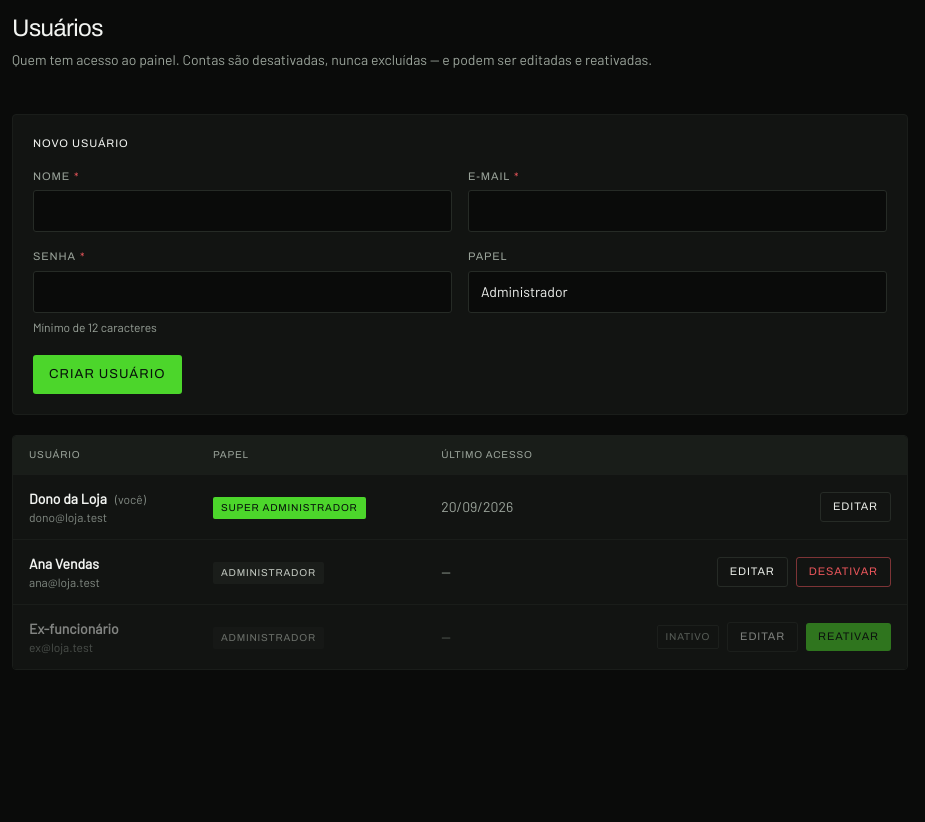
usuários › editar envia só o que mudou; senha em branco mantém a atual
Expected: the text "Ana Vendas" is shown, [29, 555, 99, 572]
Click the button "Editar" in the row of "Ana Vendas" at {"x": 752, "y": 572}, box [717, 557, 788, 587]
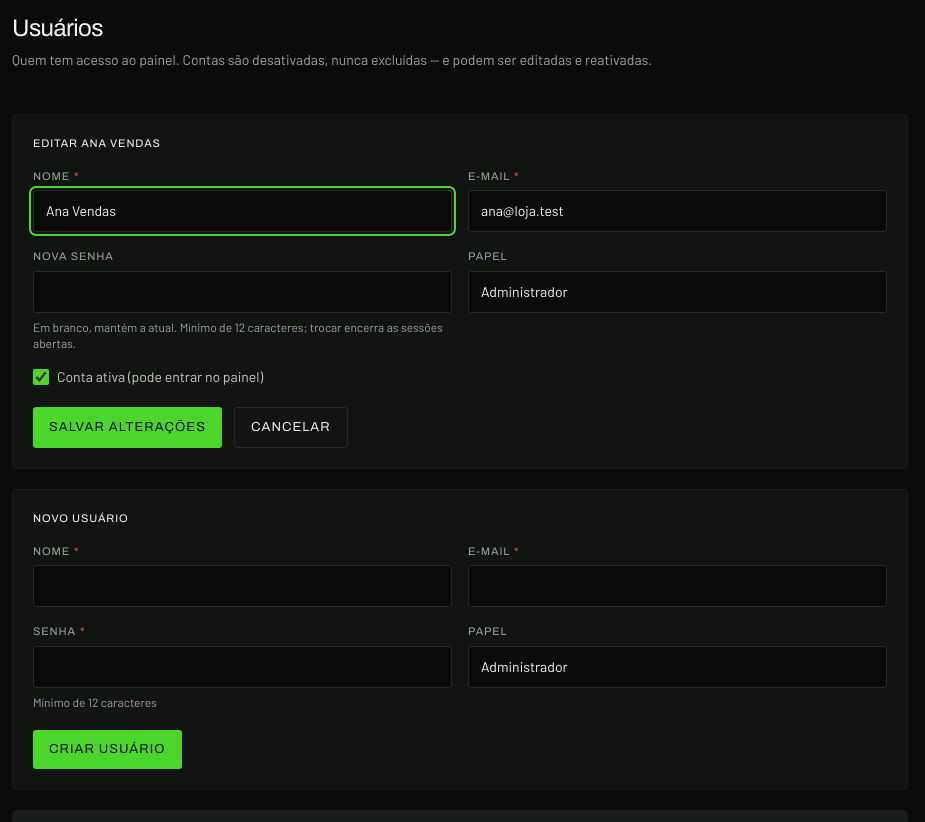
Replace the text in the 1st field labelled "Nome*" with "Ana Souza" at {"x": 242, "y": 211}, box [33, 190, 452, 232]
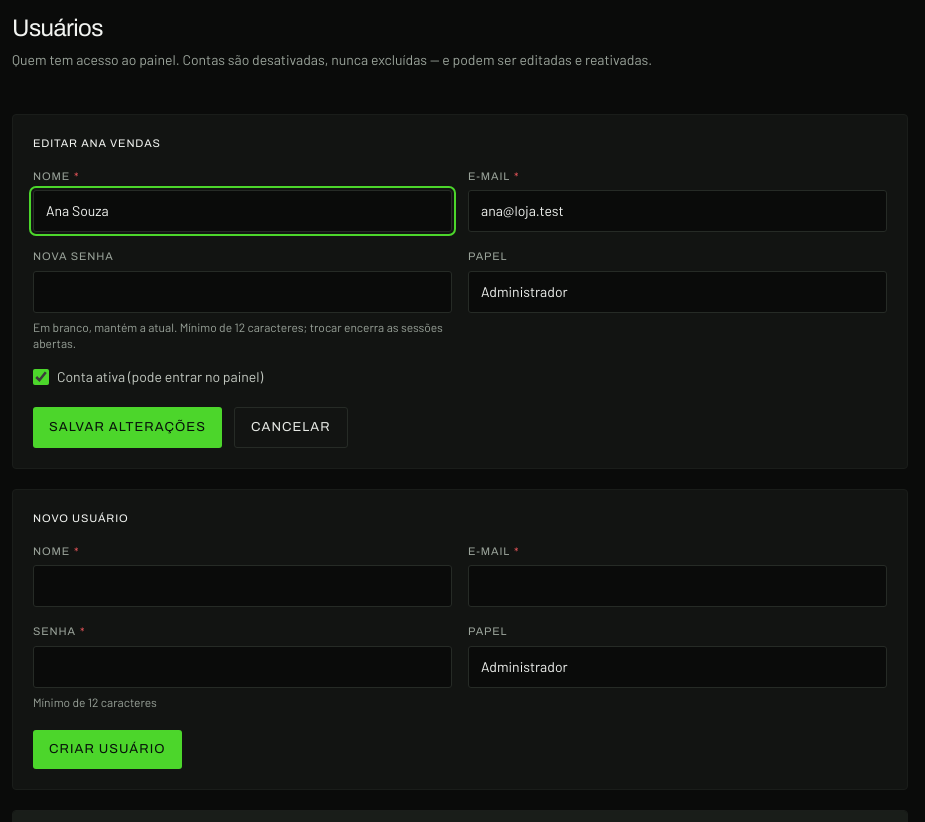
Click the button "Salvar alterações" at {"x": 128, "y": 427}, box [33, 406, 222, 448]
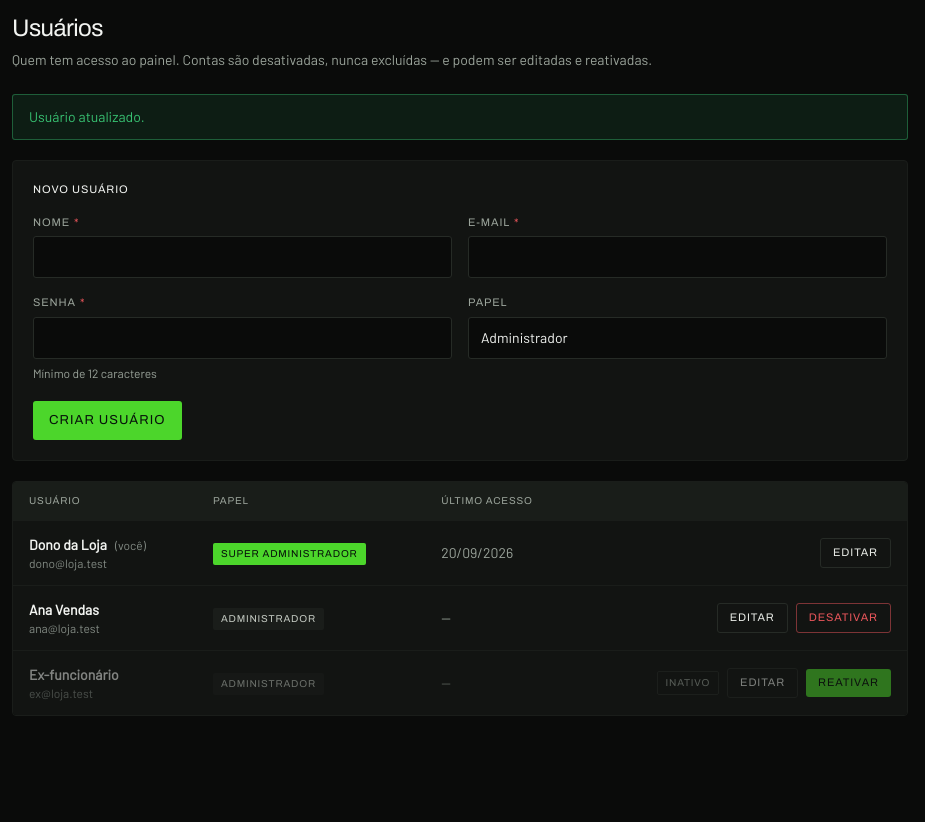
Now the text "Usuário atualizado." is shown, box [12, 94, 908, 140]
